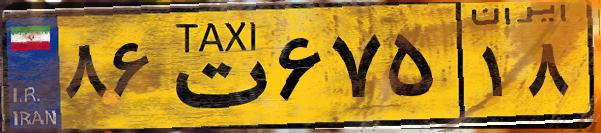1: (475, 38, 525, 113)
5: (385, 28, 445, 110)
6: (270, 28, 330, 110), (110, 28, 158, 98)
7: (330, 28, 385, 110)
8: (57, 26, 110, 100), (525, 38, 570, 115)
ت: (158, 12, 270, 120)
